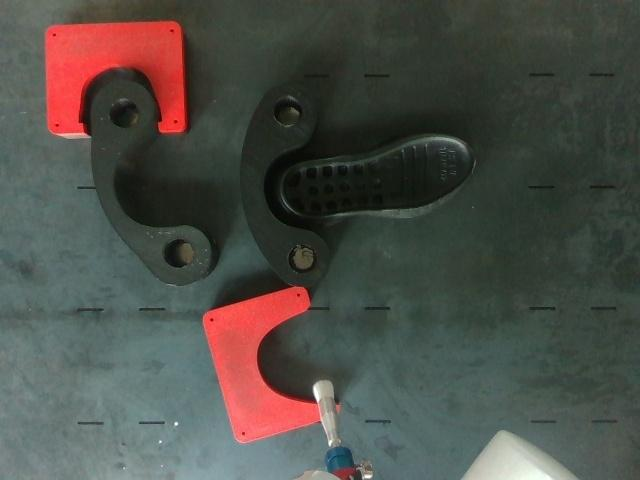shoes: (283, 137, 475, 216)
